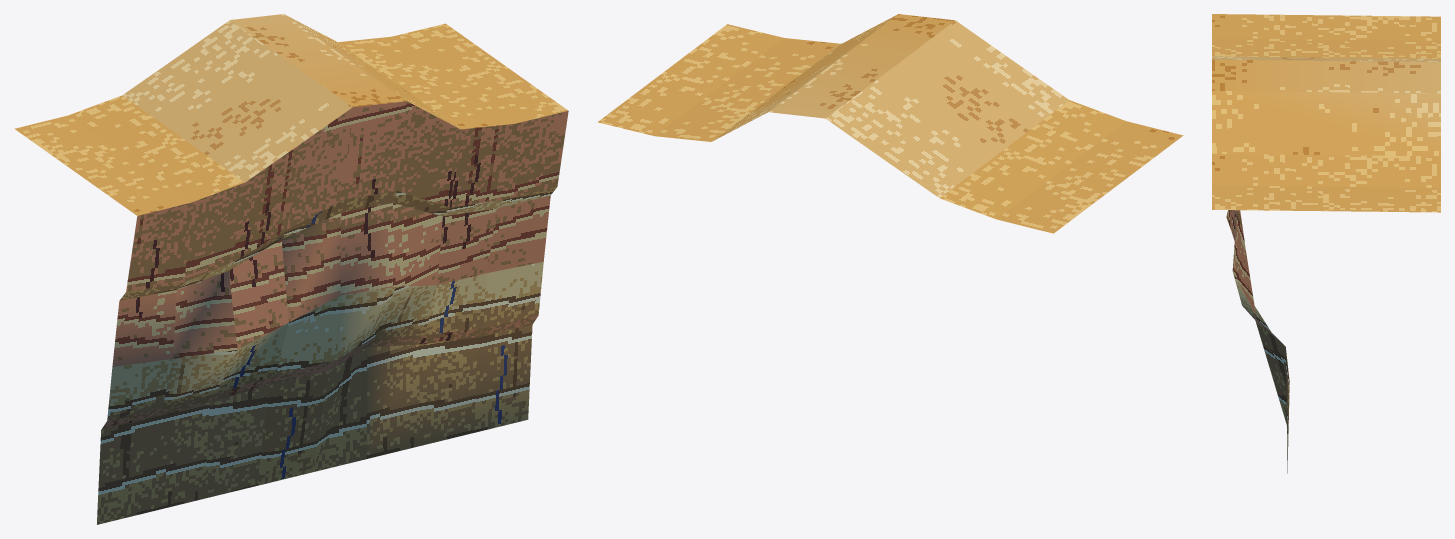
The model's file is wland.canyon_wall__low.glb.
The picture shows the model from 3 angles, left to right: view 1: azimuth 30°, elevation 25°; view 2: azimuth 150°, elevation 25°; view 3: azimuth 270°, elevation 25°; orthographic projection. The views are drawn at different scales.
Visible parts, largest first — view 1: kit_shell_face, kit_shell_cap; view 2: kit_shell_cap; view 3: kit_shell_cap, kit_shell_face.
Part boxes in pixels (<box>): kit_shell_face: <box>97,101,568,524</box>; kit_shell_cap: <box>14,14,568,215</box>; kit_shell_cap: <box>598,14,1183,233</box>; kit_shell_cap: <box>1212,14,1440,212</box>; kit_shell_face: <box>1226,210,1289,473</box>.
Bounding box in the file's own units: 8 × 7 × 3.95.
Materials: 3 (3 with a texture image).
